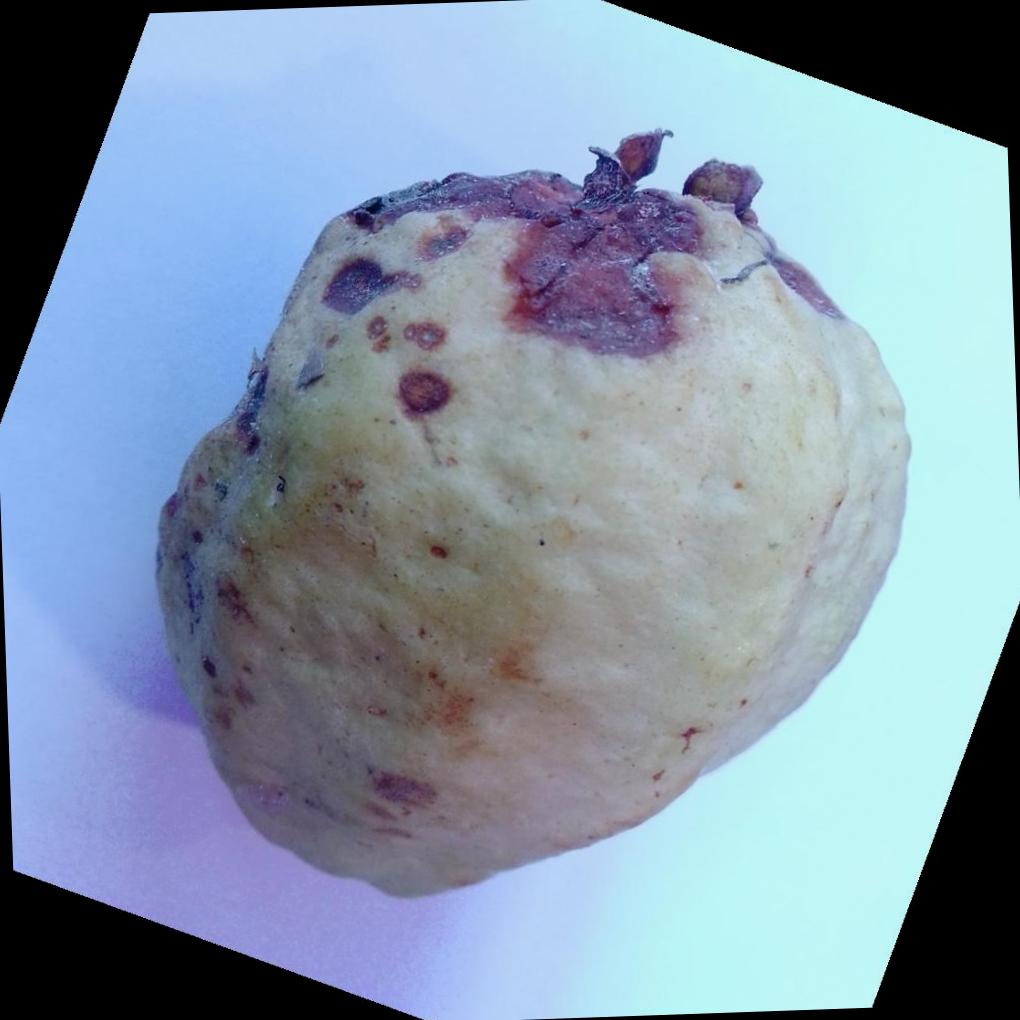FreshOrange: (153, 131, 913, 897)
